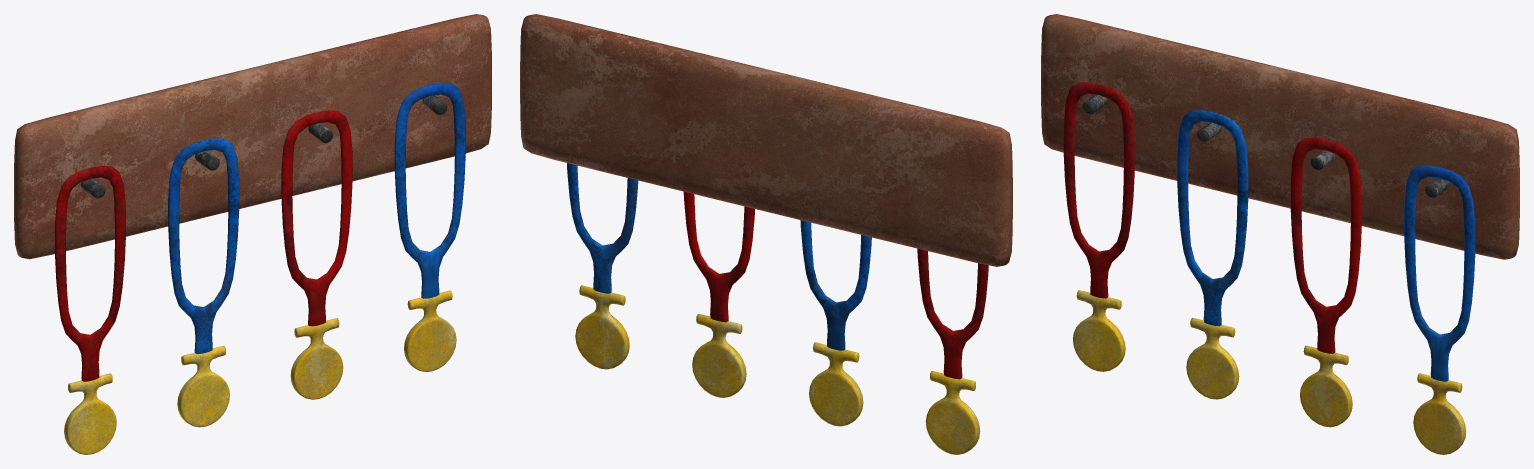
The model's file is Medal.fbx.
3 views of the same model, side by side, from view 1: azimuth 30°, elevation 25°; view 2: azimuth 150°, elevation 25°; view 3: azimuth 330°, elevation 25° (orthographic). The views are drawn at different scales.
Visible parts, largest first — view 1: Cylinder.005; view 2: Cylinder.005; view 3: Cylinder.005.
Part boxes in pixels (x1,y1,x2,y2): Cylinder.005: [14, 14, 491, 454]; Cylinder.005: [520, 14, 1012, 454]; Cylinder.005: [1041, 14, 1519, 454].
Size of the model in its own units: 225 by 152 by 21.65.
1 material, 1 textured.
